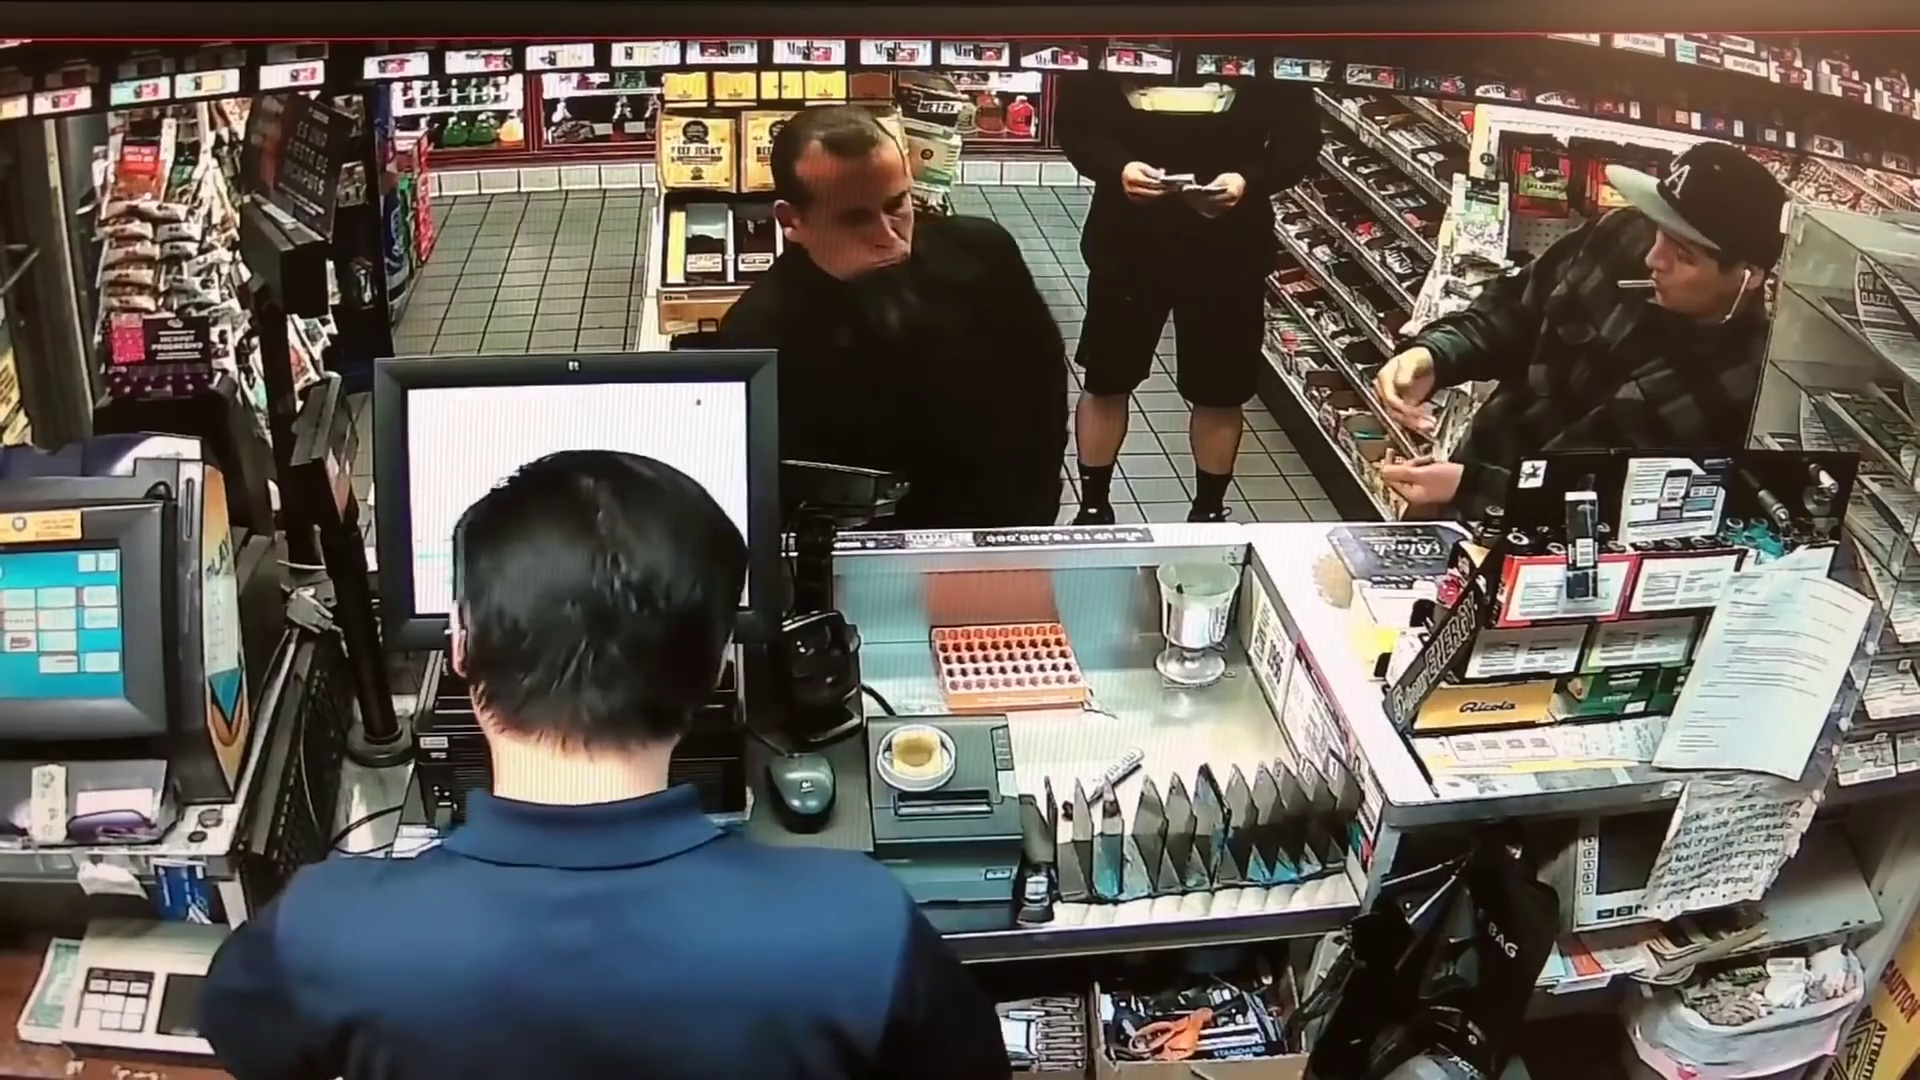face: (795, 135, 918, 285), (1637, 219, 1744, 326)
